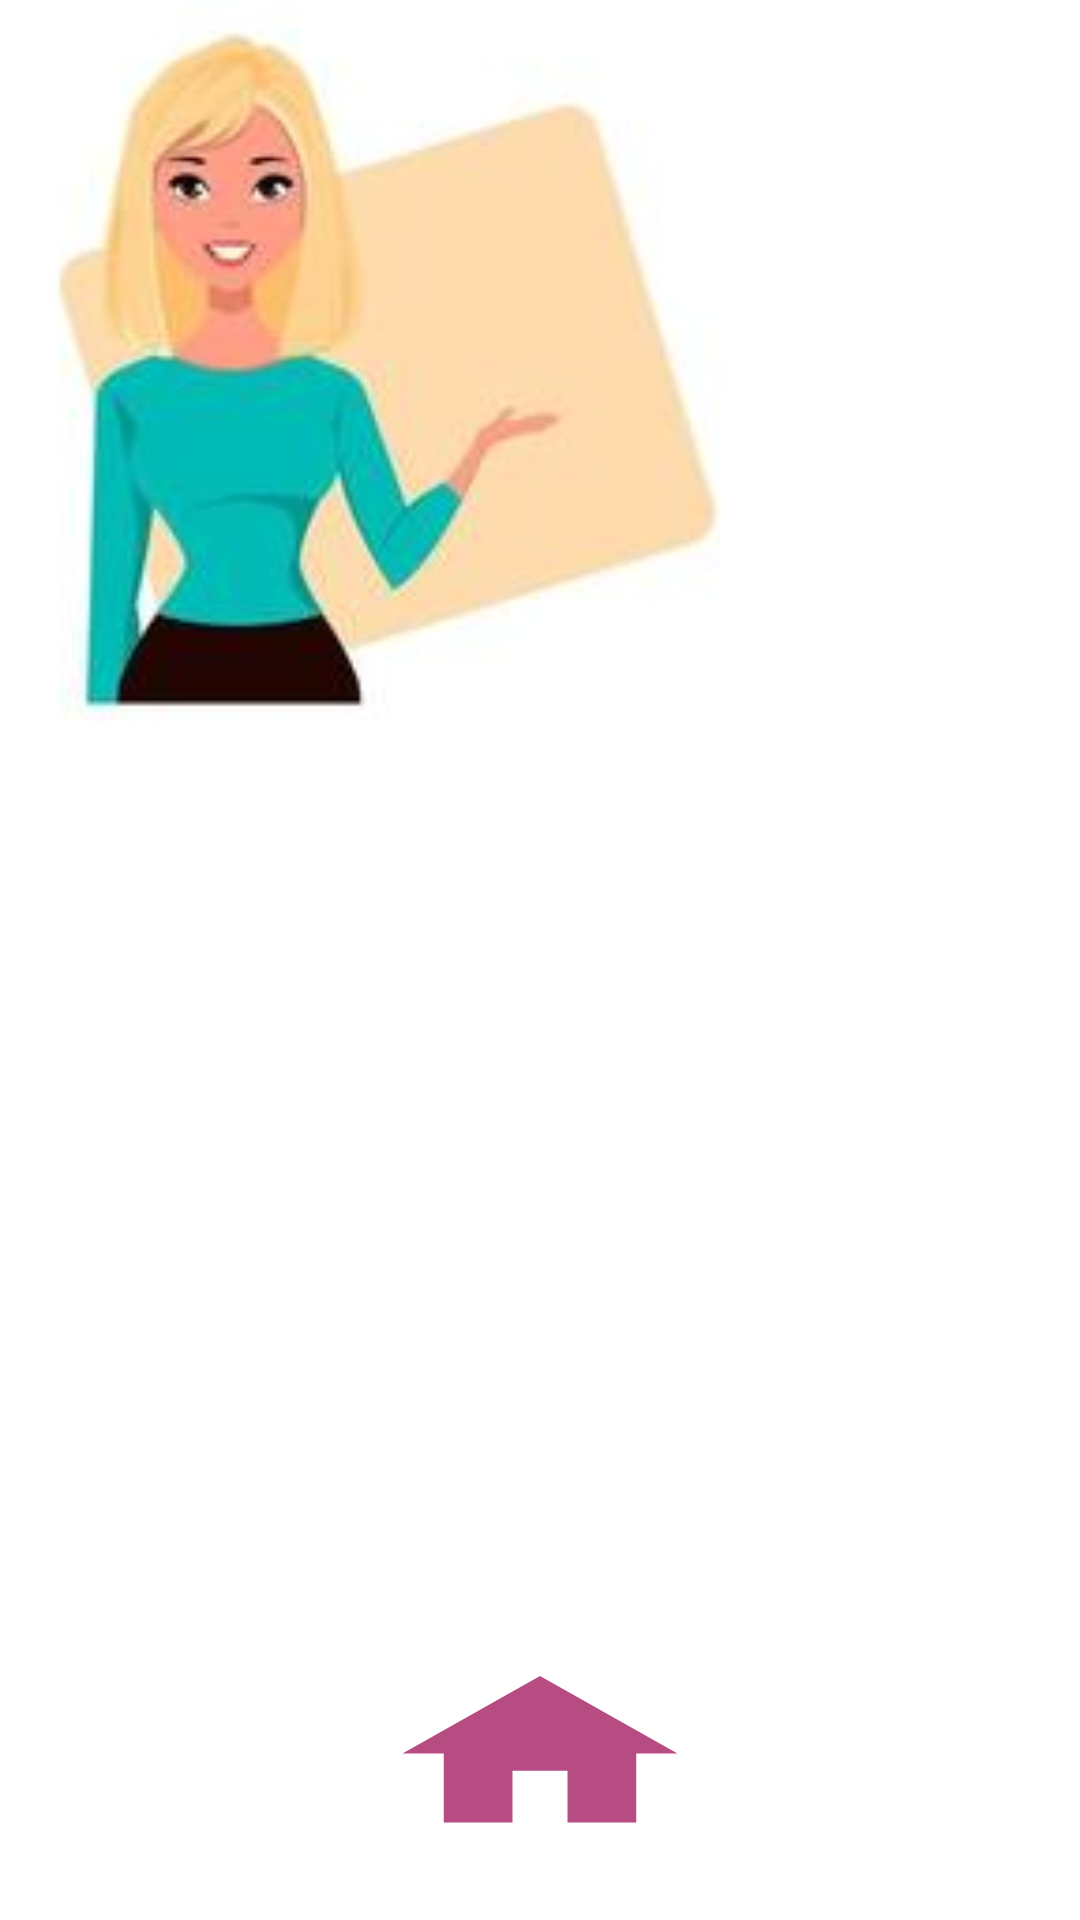

Screen size 1080 x 1920. Icon name, then its center in pixels as [x,y]:
home: [540,1749]
